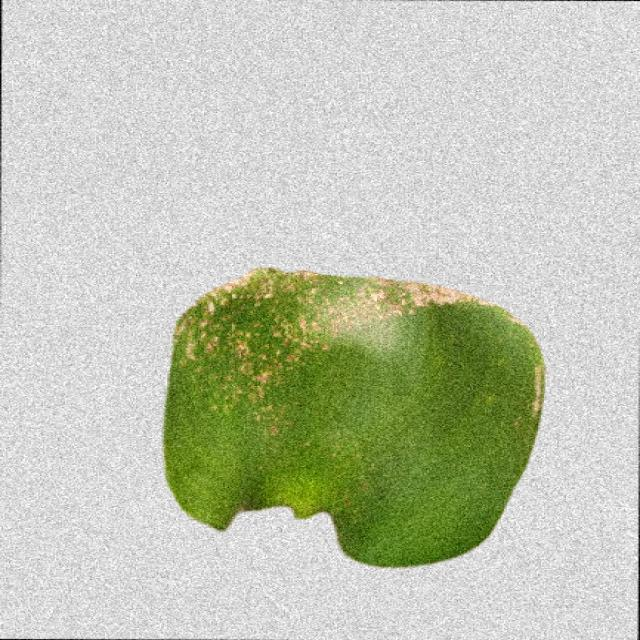daun berpenyakit bercak: (163, 269, 545, 566)
